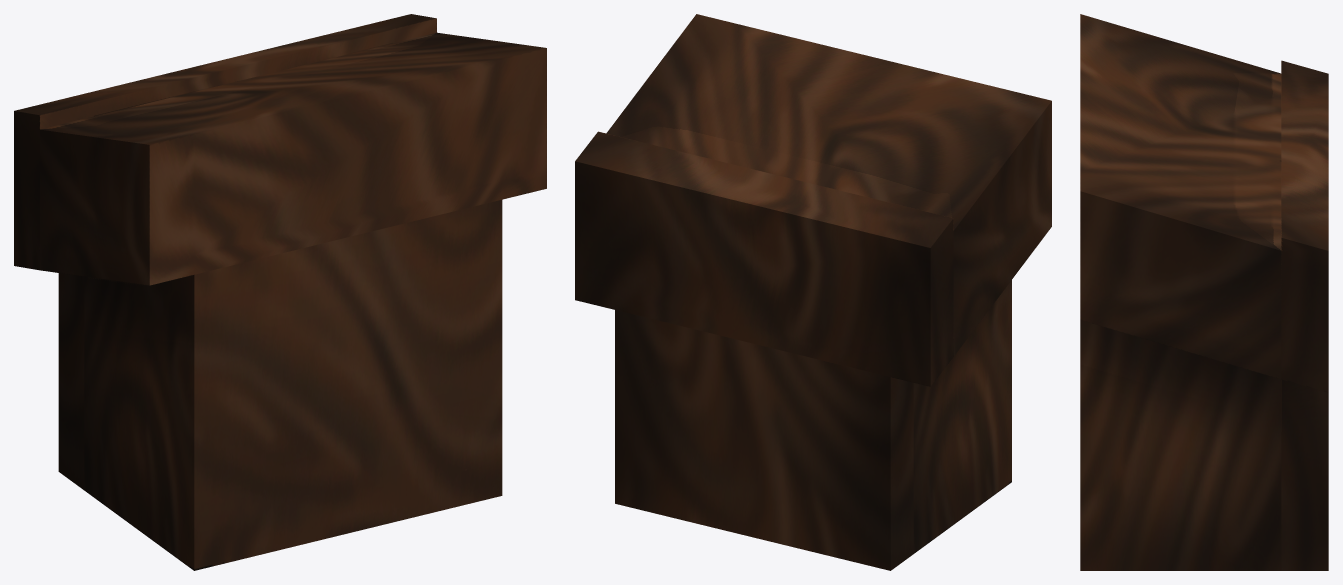
File: book_table.obj
3 renders of one model, left to right at view 1: azimuth 30°, elevation 25°; view 2: azimuth 150°, elevation 25°; view 3: azimuth 270°, elevation 25°, orthographic. The views are drawn at different scales.
Parts seen in each view (by area): view 1: Mesa_libro.002_Cube.022; view 2: Mesa_libro.002_Cube.022; view 3: Mesa_libro.002_Cube.022.
Part boxes in pixels (x1,y1,x2,y2): Mesa_libro.002_Cube.022: (14,14,546,570); Mesa_libro.002_Cube.022: (575,14,1051,570); Mesa_libro.002_Cube.022: (1080,14,1328,570).
Bounding box in the file's own units: 1.45 × 1.53 × 0.8598.
